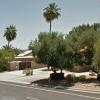Palm tree: (40, 1, 60, 35)
